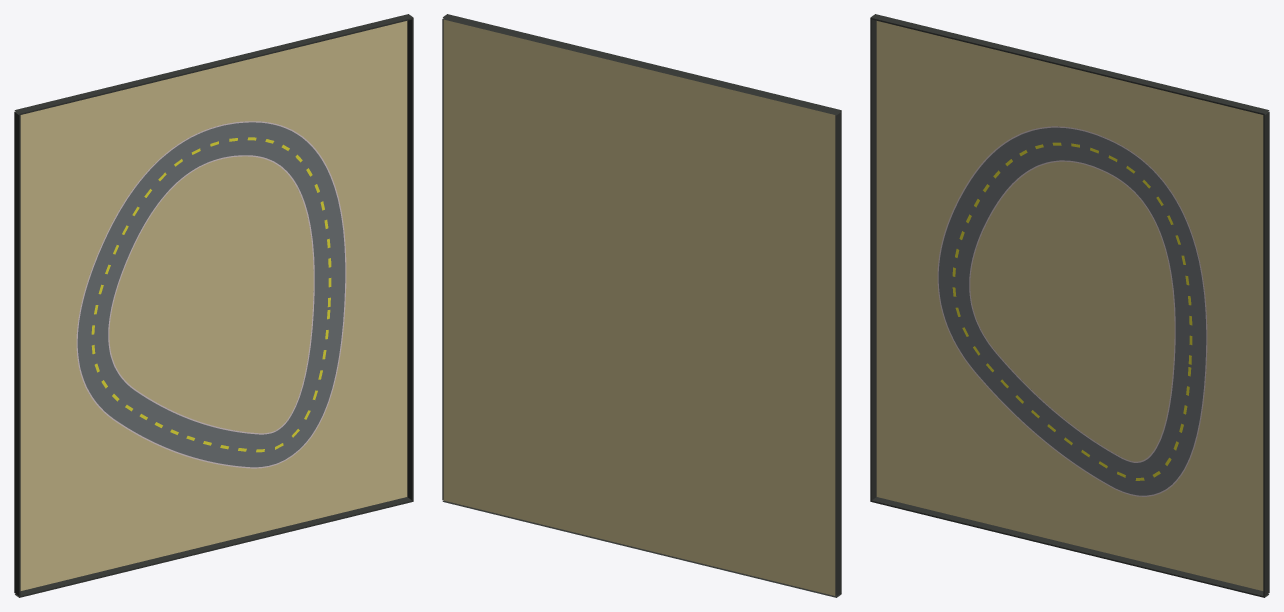
The model's file is track.obj.
The picture shows the model from 3 angles, left to right: view 1: azimuth 30°, elevation 25°; view 2: azimuth 150°, elevation 25°; view 3: azimuth 330°, elevation 25°; orthographic projection.
Bounding box in the file's own units: 13.6 × 15.95 × 0.3.
